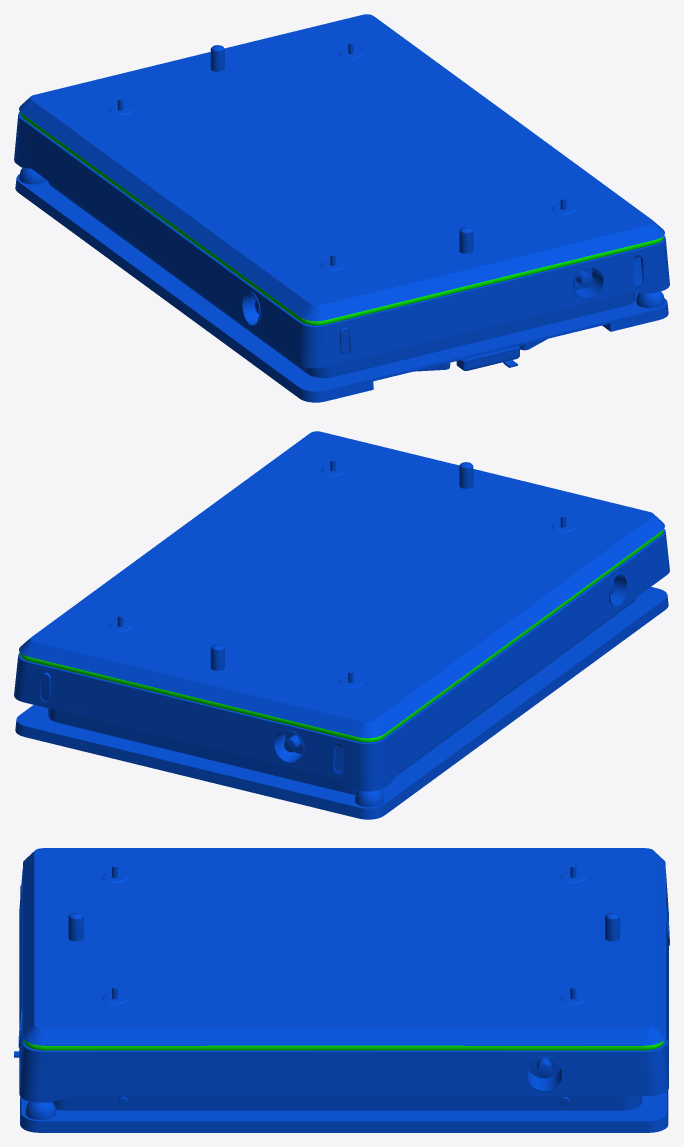
File: Otto1500.fbx
3 renders of one model, top to bottom at view 1: azimuth 30°, elevation 25°; view 2: azimuth 150°, elevation 25°; view 3: azimuth 270°, elevation 25°, orthographic. The views are drawn at different scales.
Visible parts, largest first — view 1: Otto_Body; view 2: Otto_Body; view 3: Otto_Body.
Boxes of the visible parts, x1=… form: Otto_Body: x1=14, y1=14, x2=669, y2=402; Otto_Body: x1=14, y1=431, x2=669, y2=819; Otto_Body: x1=14, y1=848, x2=669, y2=1132.
Bounding box in the file's own units: 1.29 × 0.4155 × 1.83.
